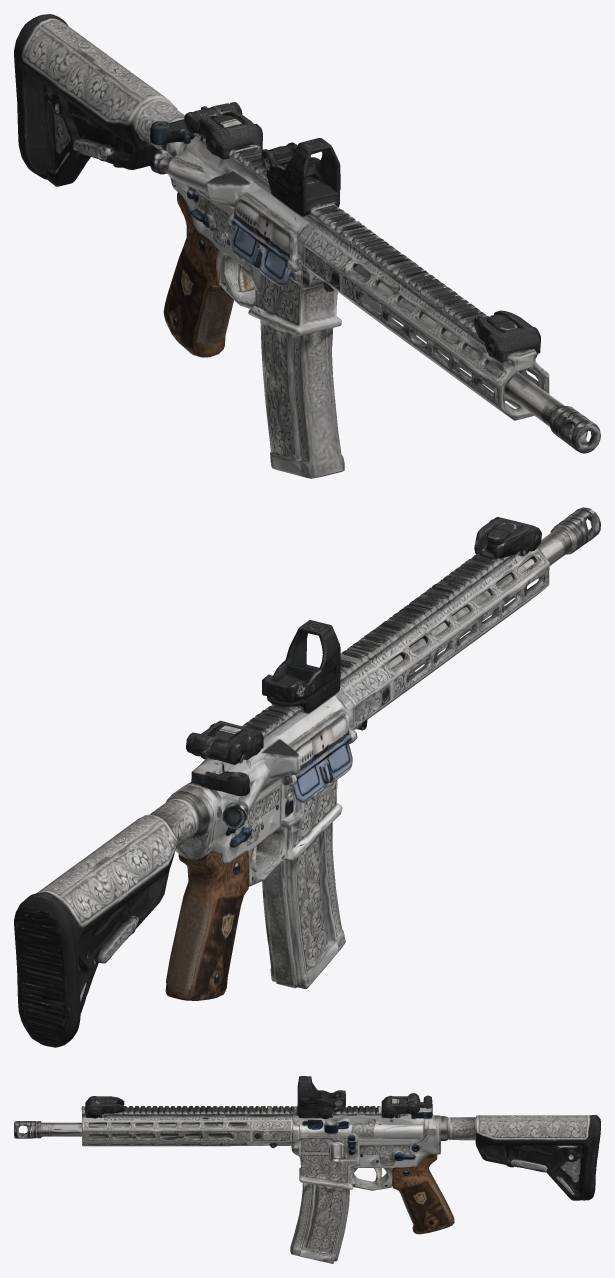
Rendered from rifle.glb.
3 renders of one model, top to bottom at view 1: azimuth 30°, elevation 25°; view 2: azimuth 150°, elevation 25°; view 3: azimuth 270°, elevation 25°, orthographic. The views are drawn at different scales.
Size of the model in its own units: 0.0796 by 0.3232 by 0.95.
Materials: 1 (1 with a texture image).
